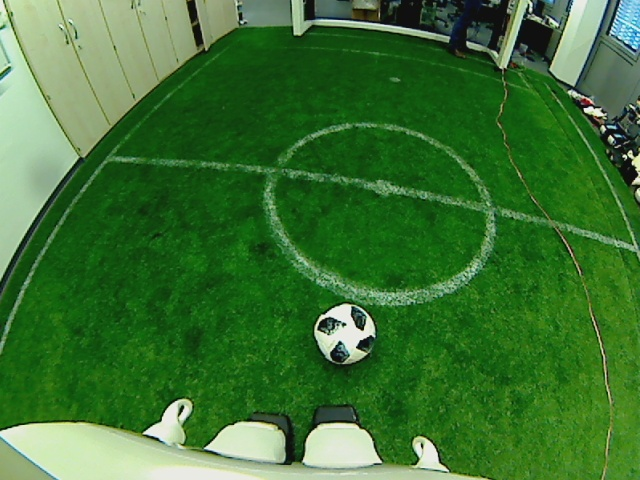ball: (311, 302, 376, 366)
